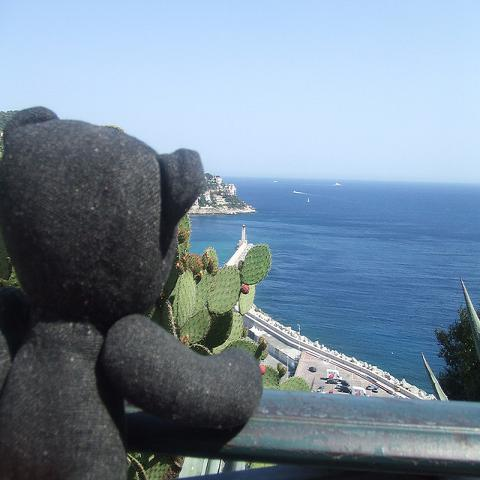car: (366, 384, 380, 392), (340, 386, 352, 393), (326, 378, 338, 384), (308, 366, 316, 372), (317, 389, 323, 393)
truck: (352, 386, 369, 396), (327, 369, 342, 380), (340, 384, 352, 394)
